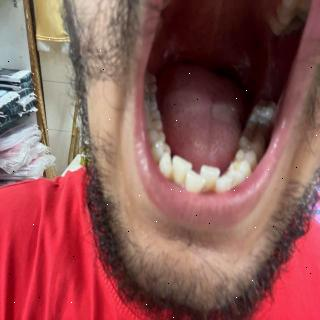cavities: (243, 126, 259, 150), (253, 115, 267, 134), (143, 95, 157, 111), (145, 114, 157, 131), (145, 76, 156, 93)
maligned: (197, 158, 220, 190), (184, 166, 206, 197), (172, 152, 191, 180)
